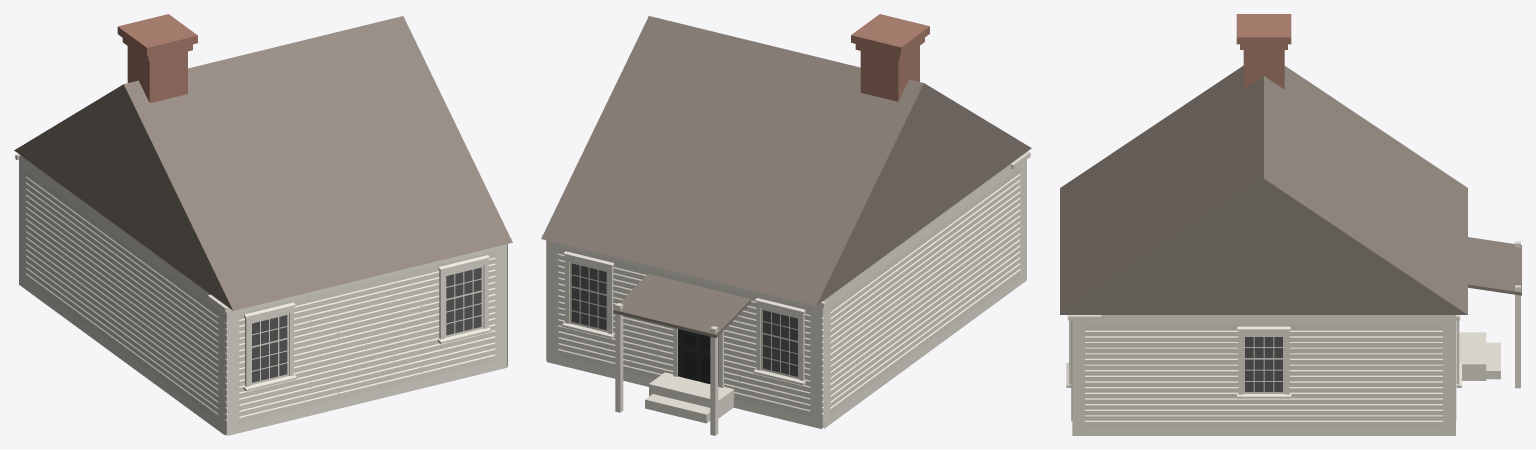
File: recon_1835_blk_school_section_tier_118_d4_04__inferred_1835.glb
The picture shows the model from 3 angles, left to right: view 1: azimuth 30°, elevation 25°; view 2: azimuth 150°, elevation 25°; view 3: azimuth 270°, elevation 25°; orthographic projection. The views are drawn at different scales.
Visible parts, largest first — view 1: recon_1835_blk_school_section_tier_118_d4_04__inferred_1835; view 2: recon_1835_blk_school_section_tier_118_d4_04__inferred_1835; view 3: recon_1835_blk_school_section_tier_118_d4_04__inferred_1835.
Part boxes in pixels (x1,y1,x2,y2): recon_1835_blk_school_section_tier_118_d4_04__inferred_1835: [14, 14, 512, 435]; recon_1835_blk_school_section_tier_118_d4_04__inferred_1835: [541, 14, 1031, 435]; recon_1835_blk_school_section_tier_118_d4_04__inferred_1835: [1060, 14, 1521, 435].
Size of the model in its own units: 6.33 by 6.72 by 9.44.
